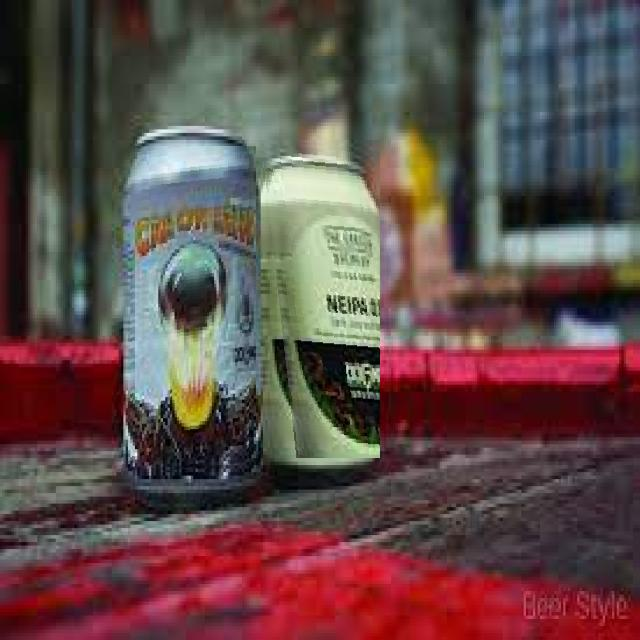Cans: (117, 146, 256, 476), (261, 139, 380, 458)
